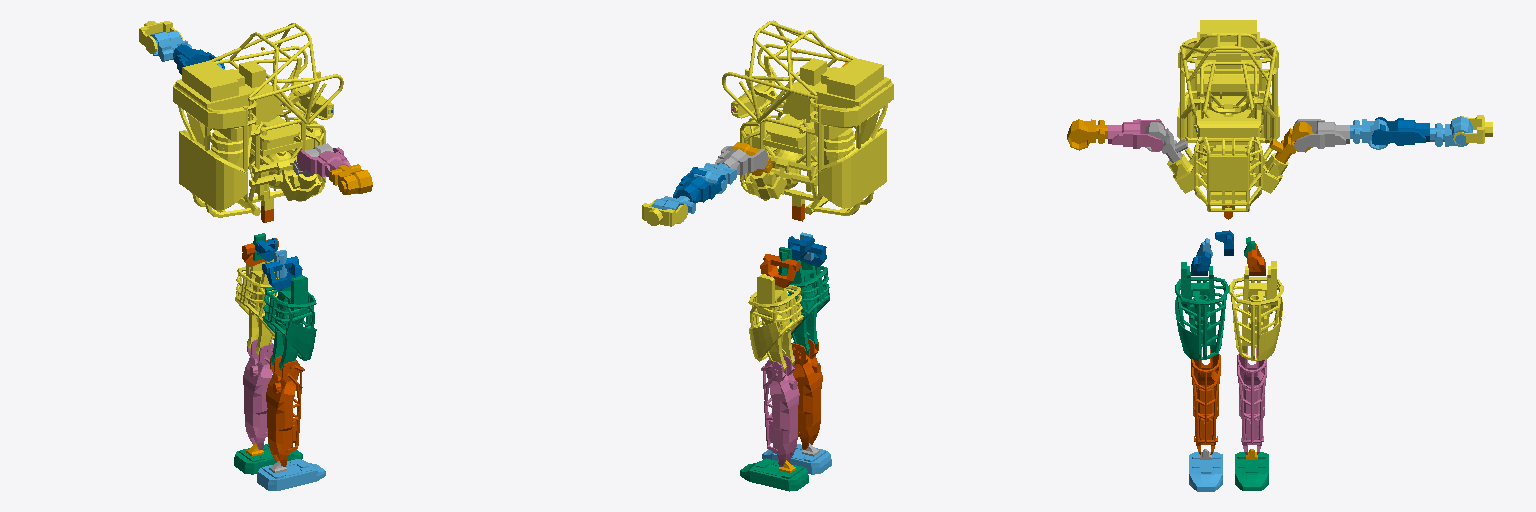
--- Facts derived from the render (not from the file) ---
The picture shows the robot from 3 angles, left to right: view 1: azimuth 30°, elevation 25°; view 2: azimuth 150°, elevation 25°; view 3: azimuth 270°, elevation 25°; orthographic projection.
Model drc_skeleton with 34 links and 33 joints (27 revolute, 6 fixed), rooted at pelvis, posed all joints at 0.
Visible links, largest first — view 1: utorso, r_uleg, r_lleg, l_lleg, l_uleg, r_foot, r_uarm, r_scap, l_foot, r_lglut, l_farm, l_larm (+1 smaller); view 2: utorso, l_uleg, l_lleg, r_lleg, r_uleg, l_foot, l_larm, l_scap, r_foot, l_lglut, l_hand, l_uarm; view 3: utorso, l_uleg, r_uleg, l_lleg, r_lleg, l_larm, l_scap, r_scap, r_foot, l_foot, r_uarm, l_farm (+4 smaller).
Link boxes in pixels (x1,y1,x2,y2): utorso: (173, 23, 343, 217); r_uleg: (262, 275, 316, 370); r_lleg: (266, 356, 304, 466); l_lleg: (243, 339, 273, 449); l_uleg: (235, 259, 278, 354); r_foot: (257, 459, 325, 490); r_uarm: (329, 164, 372, 194); r_scap: (297, 147, 350, 176); l_foot: (234, 444, 302, 474); r_lglut: (262, 256, 302, 290); l_farm: (150, 31, 191, 61); l_larm: (173, 44, 224, 74); utorso: (722, 20, 893, 215); l_uleg: (748, 266, 803, 371); l_lleg: (761, 355, 799, 466); r_lleg: (791, 339, 822, 449); r_uleg: (788, 258, 829, 353); l_foot: (740, 458, 808, 491); l_larm: (673, 167, 725, 203); l_scap: (714, 146, 768, 174); r_foot: (762, 444, 831, 474); l_lglut: (760, 254, 800, 287); l_hand: (642, 200, 687, 226); l_uarm: (694, 163, 736, 193); utorso: (1167, 20, 1288, 211); l_uleg: (1229, 261, 1283, 360); r_uleg: (1175, 262, 1228, 360); l_lleg: (1237, 348, 1266, 454); r_lleg: (1191, 349, 1220, 454); l_larm: (1372, 117, 1429, 145); l_scap: (1293, 119, 1349, 151); r_scap: (1108, 119, 1164, 151); r_foot: (1189, 452, 1222, 491); l_foot: (1235, 452, 1268, 490); r_uarm: (1067, 119, 1107, 150); l_farm: (1430, 116, 1472, 146).
Size in the robot's own frame: 0.603 by 1.64 by 1.87 metres.
Meshes: 29 distinct files referenced, 25 mesh visuals loaded (25 Collada DAE); not drawn: 4 (reference not matched to a file when rendering).

The robot description file, URDF, robot "drc_skeleton":
<robot name="drc_skeleton">
    <link name="l_clav">
        <inertial>
            <mass value="3.45" />
            <origin xyz="0 0.048 0.084" rpy="0 -0 0" />
            <inertia ixx="0.011" ixy="0" ixz="0" iyy="0.009" iyz="-0.004" izz="0.004" />
        </inertial>
        <visual>
            <origin xyz="0 0 0" rpy="0 -0 0" />
            <geometry>
                <mesh filename="l_clav.dae" scale="1 1 1" />
            </geometry>
        </visual>
        <collision>
            <origin xyz="0 0 0" rpy="0 -0 0" />
            <geometry>
                <mesh filename="l_clav.stl" scale="1 1 1" />
            </geometry>
        </collision>
    </link>
    <link name="l_farm">
        <inertial>
            <mass value="3.388" />
            <origin xyz="0 -0.065 0" rpy="0 -0 0" />
            <inertia ixx="0.00656" ixy="0" ixz="0" iyy="0.00358" iyz="0" izz="0.00656" />
        </inertial>
        <visual>
            <origin xyz="0 0 0" rpy="0 -0 0" />
            <geometry>
                <mesh filename="l_farm.dae" scale="1 1 1" />
            </geometry>
        </visual>
        <collision>
            <origin xyz="0 0 0" rpy="0 -0 0" />
            <geometry>
                <mesh filename="l_farm.stl" scale="1 1 1" />
            </geometry>
        </collision>
    </link>
    <link name="l_foot">
        <inertial>
            <mass value="2.05" />
            <origin xyz="0.027 0 -0.067" rpy="0 -0 0" />
            <inertia ixx="0.002" ixy="0" ixz="0" iyy="0.007" iyz="0" izz="0.008" />
        </inertial>
        <visual>
            <origin xyz="0 0 0" rpy="0 -0 0" />
            <geometry>
                <mesh filename="l_foot.dae" scale="1 1 1" />
            </geometry>
        </visual>
        <collision>
            <origin xyz="0 0 0" rpy="0 -0 0" />
            <geometry>
                <mesh filename="l_foot.stl" scale="1 1 1" />
            </geometry>
        </collision>
    </link>
    <link name="l_hand">
        <inertial>
            <mass value="2.509" />
            <origin xyz="0 0 0" rpy="0 -0 0" />
            <inertia ixx="0.00265" ixy="0" ixz="0" iyy="0.00446" iyz="0" izz="0.00446" />
        </inertial>
        <visual>
            <origin xyz="0 0 0" rpy="0 -0 0" />
            <geometry>
                <mesh filename="l_hand.dae" scale="1 1 1" />
            </geometry>
        </visual>
        <collision>
            <origin xyz="0 0 0" rpy="0 -0 0" />
            <geometry>
                <mesh filename="l_hand.stl" scale="1 1 1" />
            </geometry>
        </collision>
    </link>
    <link name="l_larm">
        <inertial>
            <mass value="2.509" />
            <origin xyz="0 0 0" rpy="0 -0 0" />
            <inertia ixx="0.00265" ixy="0" ixz="0" iyy="0.00446" iyz="0" izz="0.00446" />
        </inertial>
        <visual>
            <origin xyz="0 0 0" rpy="0 -0 0" />
            <geometry>
                <mesh filename="l_larm.dae" scale="1 1 1" />
            </geometry>
        </visual>
        <collision>
            <origin xyz="0 0 0" rpy="0 -0 0" />
            <geometry>
                <mesh filename="l_larm.stl" scale="1 1 1" />
            </geometry>
        </collision>
    </link>
    <link name="l_lglut">
        <inertial>
            <mass value="0.866" />
            <origin xyz="0.0133341 0.0170484 -0.0312052" rpy="0 -0 0" />
            <inertia ixx="0.000691326" ixy="-2.24344e-05" ixz="2.50508e-06" iyy="0.00126856" iyz="0.000137862" izz="0.00106487" />
        </inertial>
        <visual>
            <origin xyz="0 0 0" rpy="0 -0 0" />
            <geometry>
                <mesh filename="l_lglut.dae" scale="1 1 1" />
            </geometry>
        </visual>
        <collision>
            <origin xyz="0 0 0" rpy="0 -0 0" />
            <geometry>
                <mesh filename="l_lglut.stl" scale="1 1 1" />
            </geometry>
        </collision>
    </link>
    <link name="l_lleg">
        <inertial>
            <mass value="5.479" />
            <origin xyz="0.001 0 -0.187" rpy="0 -0 0" />
            <inertia ixx="0.077" ixy="0" ixz="-0.003" iyy="0.076" iyz="0" izz="0.01" />
        </inertial>
        <visual>
            <origin xyz="0 0 0" rpy="0 -0 0" />
            <geometry>
                <mesh filename="l_lleg.dae" scale="1 1 1" />
            </geometry>
        </visual>
        <collision>
            <origin xyz="0 0 0" rpy="0 -0 0" />
            <geometry>
                <mesh filename="l_lleg.stl" scale="1 1 1" />
            </geometry>
        </collision>
    </link>
    <link name="l_scap">
        <inertial>
            <mass value="3.012" />
            <origin xyz="0 0 0" rpy="0 -0 0" />
            <inertia ixx="0.00319" ixy="0" ixz="0" iyy="0.00583" iyz="0" izz="0.00583" />
        </inertial>
        <visual>
            <origin xyz="0 0 0" rpy="0 -0 0" />
            <geometry>
                <mesh filename="l_scap.dae" scale="1 1 1" />
            </geometry>
        </visual>
        <collision>
            <origin xyz="0 0 0" rpy="0 -0 0" />
            <geometry>
                <mesh filename="l_scap.stl" scale="1 1 1" />
            </geometry>
        </collision>
    </link>
    <link name="l_talus">
        <inertial>
            <mass value="0.125" />
            <origin xyz="0 0 0" rpy="0 -0 0" />
            <inertia ixx="1.01674e-05" ixy="0" ixz="0" iyy="8.42775e-06" iyz="0" izz="1.30101e-05" />
        </inertial>
        <visual>
            <origin xyz="0 0 0" rpy="0 -0 0" />
            <geometry>
                <mesh filename="l_talus.dae" scale="1 1 1" />
            </geometry>
        </visual>
        <collision>
            <origin xyz="0 0 0" rpy="0 -0 0" />
            <geometry>
                <mesh filename="l_talus.stl" scale="1 1 1" />
            </geometry>
        </collision>
    </link>
    <link name="l_uarm">
        <inertial>
            <mass value="3.388" />
            <origin xyz="0 -0.065 0" rpy="0 -0 0" />
            <inertia ixx="0.00656" ixy="0" ixz="0" iyy="0.00358" iyz="0" izz="0.00656" />
        </inertial>
        <visual>
            <origin xyz="0 0 0" rpy="0 -0 0" />
            <geometry>
                <mesh filename="l_uarm.dae" scale="1 1 1" />
            </geometry>
        </visual>
        <collision>
            <origin xyz="0 0 0" rpy="0 -0 0" />
            <geometry>
                <mesh filename="l_uarm.stl" scale="1 1 1" />
            </geometry>
        </collision>
    </link>
    <link name="l_uglut">
        <inertial>
            <mass value="0.648" />
            <origin xyz="0.00529262 -0.00344732 0.00313046" rpy="0 -0 0" />
            <inertia ixx="0.00074276" ixy="-3.79607e-08" ixz="-2.79549e-05" iyy="0.000688179" iyz="-3.2735e-08" izz="0.00041242" />
        </inertial>
        <visual>
            <origin xyz="0 0 0" rpy="0 -0 0" />
            <geometry>
                <mesh filename="l_uglut.dae" scale="1 1 1" />
            </geometry>
        </visual>
        <collision>
            <origin xyz="0 0 0" rpy="0 -0 0" />
            <geometry>
                <mesh filename="l_uglut.stl" scale="1 1 1" />
            </geometry>
        </collision>
    </link>
    <link name="l_uleg">
        <inertial>
            <mass value="9.209" />
            <origin xyz="0 0 -0.21" rpy="0 -0 0" />
            <inertia ixx="0.09" ixy="0" ixz="0" iyy="0.09" iyz="0" izz="0.02" />
        </inertial>
        <visual>
            <origin xyz="0 0 0" rpy="0 -0 0" />
            <geometry>
                <mesh filename="l_uleg.dae" scale="1 1 1" />
            </geometry>
        </visual>
        <collision>
            <origin xyz="0 0 0" rpy="0 -0 0" />
            <geometry>
                <mesh filename="l_uleg.stl" scale="1 1 1" />
            </geometry>
        </collision>
    </link>
    <link name="ltorso">
        <inertial>
            <mass value="2.409" />
            <origin xyz="-0.0112984 -3.15366e-06 0.0746835" rpy="0 -0 0" />
            <inertia ixx="0.0039092" ixy="-5.04491e-08" ixz="-0.000342157" iyy="0.00341694" iyz="4.87119e-07" izz="0.00174492" />
        </inertial>
        <visual>
            <origin xyz="0 0 0" rpy="0 -0 0" />
            <geometry>
                <mesh filename="ltorso.dae" scale="1 1 1" />
            </geometry>
        </visual>
        <collision>
            <origin xyz="0 0 0" rpy="0 -0 0" />
            <geometry>
                <mesh filename="ltorso.stl" scale="1 1 1" />
            </geometry>
        </collision>
    </link>
    <link name="mtorso">
        <inertial>
            <mass value="0.69" />
            <origin xyz="-0.00816266 -0.0131245 0.0305974" rpy="0 -0 0" />
            <inertia ixx="0.000454181" ixy="-6.10764e-05" ixz="3.94009e-05" iyy="0.000483282" iyz="5.27463e-05" izz="0.000444215" />
        </inertial>
        <visual>
            <origin xyz="0 0 0" rpy="0 -0 0" />
            <geometry>
                <mesh filename="mtorso.dae" scale="1 1 1" />
            </geometry>
        </visual>
        <collision>
            <origin xyz="0 0 0" rpy="0 -0 0" />
            <geometry>
                <mesh filename="mtorso.stl" scale="1 1 1" />
            </geometry>
        </collision>
    </link>
    <link name="pelvis">
        <inertial>
            <mass value="17.882" />
            <origin xyz="0.0111 0 0.0271" rpy="0 -0 0" />
            <inertia ixx="0.1244" ixy="0.0008" ixz="-0.0007" iyy="0.0958" iyz="-0.0005" izz="0.1167" />
        </inertial>
        <visual>
            <origin xyz="0 0 0" rpy="0 -0 0" />
            <geometry>
                <mesh filename="pelvis.dae" scale="1 1 1" />
            </geometry>
        </visual>
        <collision>
            <origin xyz="0 0 0" rpy="0 -0 0" />
            <geometry>
                <mesh filename="pelvis.stl" scale="1 1 1" />
            </geometry>
        </collision>
    </link>
    <link name="r_clav">
        <inertial>
            <mass value="3.45" />
            <origin xyz="0 -0.048 0.084" rpy="0 -0 0" />
            <inertia ixx="0.011" ixy="0" ixz="0" iyy="0.009" iyz="0.004" izz="0.004" />
        </inertial>
        <visual>
            <origin xyz="0 0 0" rpy="0 -0 0" />
            <geometry>
                <mesh filename="r_clav.dae" scale="1 1 1" />
            </geometry>
        </visual>
        <collision>
            <origin xyz="0 0 0" rpy="0 -0 0" />
            <geometry>
                <mesh filename="r_clav.stl" scale="1 1 1" />
            </geometry>
        </collision>
    </link>
    <link name="r_farm">
        <inertial>
            <mass value="3.388" />
            <origin xyz="0 0.065 0" rpy="0 -0 0" />
            <inertia ixx="0.00656" ixy="0" ixz="0" iyy="0.00358" iyz="0" izz="0.00656" />
        </inertial>
        <visual>
            <origin xyz="0 0 0" rpy="0 -0 0" />
            <geometry>
                <mesh filename="r_farm.dae" scale="1 1 1" />
            </geometry>
        </visual>
        <collision>
            <origin xyz="0 0 0" rpy="0 -0 0" />
            <geometry>
                <mesh filename="r_farm.stl" scale="1 1 1" />
            </geometry>
        </collision>
    </link>
    <link name="r_foot">
        <inertial>
            <mass value="2.05" />
            <origin xyz="0.027 0 -0.067" rpy="0 -0 0" />
            <inertia ixx="0.002" ixy="0" ixz="0" iyy="0.007" iyz="0" izz="0.008" />
        </inertial>
        <visual>
            <origin xyz="0 0 0" rpy="0 -0 0" />
            <geometry>
                <mesh filename="r_foot.dae" scale="1 1 1" />
            </geometry>
        </visual>
        <collision>
            <origin xyz="0 0 0" rpy="0 -0 0" />
            <geometry>
                <mesh filename="r_foot.stl" scale="1 1 1" />
            </geometry>
        </collision>
    </link>
    <link name="r_hand">
        <inertial>
            <mass value="2.509" />
            <origin xyz="0 0 0" rpy="0 -0 0" />
            <inertia ixx="0.00265" ixy="0" ixz="0" iyy="0.00446" iyz="0" izz="0.00446" />
        </inertial>
        <visual>
            <origin xyz="0 0 0" rpy="0 -0 0" />
            <geometry>
                <mesh filename="r_hand.dae" scale="1 1 1" />
            </geometry>
        </visual>
        <collision>
            <origin xyz="0 0 0" rpy="0 -0 0" />
            <geometry>
                <mesh filename="r_hand.stl" scale="1 1 1" />
            </geometry>
        </collision>
    </link>
    <link name="r_larm">
        <inertial>
            <mass value="2.509" />
            <origin xyz="0 0 0" rpy="0 -0 0" />
            <inertia ixx="0.00265" ixy="0" ixz="0" iyy="0.00446" iyz="0" izz="0.00446" />
        </inertial>
        <visual>
            <origin xyz="0 0 0" rpy="0 -0 0" />
            <geometry>
                <mesh filename="r_larm.dae" scale="1 1 1" />
            </geometry>
        </visual>
        <collision>
            <origin xyz="0 0 0" rpy="0 -0 0" />
            <geometry>
                <mesh filename="r_larm.stl" scale="1 1 1" />
            </geometry>
        </collision>
    </link>
    <link name="r_lglut">
        <inertial>
            <mass value="0.866" />
            <origin xyz="0.0133341 -0.0170484 -0.0312052" rpy="0 -0 0" />
            <inertia ixx="0.000691326" ixy="2.24344e-05" ixz="2.50508e-06" iyy="0.00126856" iyz="-0.000137862" izz="0.00106487" />
        </inertial>
        <visual>
            <origin xyz="0 0 0" rpy="0 -0 0" />
            <geometry>
                <mesh filename="r_lglut.dae" scale="1 1 1" />
            </geometry>
        </visual>
        <collision>
            <origin xyz="0 0 0" rpy="0 -0 0" />
            <geometry>
                <mesh filename="r_lglut.stl" scale="1 1 1" />
            </geometry>
        </collision>
    </link>
    <link name="r_lleg">
        <inertial>
            <mass value="5.479" />
            <origin xyz="0.001 0 -0.187" rpy="0 -0 0" />
            <inertia ixx="0.077" ixy="-0" ixz="-0.003" iyy="0.076" iyz="-0" izz="0.01" />
        </inertial>
        <visual>
            <origin xyz="0 0 0" rpy="0 -0 0" />
            <geometry>
                <mesh filename="r_lleg.dae" scale="1 1 1" />
            </geometry>
        </visual>
        <collision>
            <origin xyz="0 0 0" rpy="0 -0 0" />
            <geometry>
                <mesh filename="r_lleg.stl" scale="1 1 1" />
            </geometry>
        </collision>
    </link>
    <link name="r_scap">
        <inertial>
            <mass value="3.012" />
            <origin xyz="0 0 0" rpy="0 -0 0" />
            <inertia ixx="0.00319" ixy="0" ixz="0" iyy="0.00583" iyz="0" izz="0.00583" />
        </inertial>
        <visual>
            <origin xyz="0 0 0" rpy="0 -0 0" />
            <geometry>
                <mesh filename="r_scap.dae" scale="1 1 1" />
            </geometry>
        </visual>
        <collision>
            <origin xyz="0 0 0" rpy="0 -0 0" />
            <geometry>
                <mesh filename="r_scap.stl" scale="1 1 1" />
            </geometry>
        </collision>
    </link>
    <link name="r_talus">
        <inertial>
            <mass value="0.125" />
            <origin xyz="0 0 0" rpy="0 -0 0" />
            <inertia ixx="1.01674e-05" ixy="0" ixz="0" iyy="8.42775e-06" iyz="0" izz="1.30101e-05" />
        </inertial>
        <visual>
            <origin xyz="0 0 0" rpy="0 -0 0" />
            <geometry>
                <mesh filename="r_talus.dae" scale="1 1 1" />
            </geometry>
        </visual>
        <collision>
            <origin xyz="0 0 0" rpy="0 -0 0" />
            <geometry>
                <mesh filename="r_talus.stl" scale="1 1 1" />
            </geometry>
        </collision>
    </link>
    <link name="r_uarm">
        <inertial>
            <mass value="3.388" />
            <origin xyz="0 0.065 0" rpy="0 -0 0" />
            <inertia ixx="0.00656" ixy="0" ixz="0" iyy="0.00358" iyz="0" izz="0.00656" />
        </inertial>
        <visual>
            <origin xyz="0 0 0" rpy="0 -0 0" />
            <geometry>
                <mesh filename="r_uarm.dae" scale="1 1 1" />
            </geometry>
        </visual>
        <collision>
            <origin xyz="0 0 0" rpy="0 -0 0" />
            <geometry>
                <mesh filename="r_uarm.stl" scale="1 1 1" />
            </geometry>
        </collision>
    </link>
    <link name="r_uglut">
        <inertial>
            <mass value="0.648" />
            <origin xyz="0.00529262 0.00344732 0.00313046" rpy="0 -0 0" />
            <inertia ixx="0.00074276" ixy="3.79607e-08" ixz="-2.79549e-05" iyy="0.000688179" iyz="3.2735e-08" izz="0.00041242" />
        </inertial>
        <visual>
            <origin xyz="0 0 0" rpy="0 -0 0" />
            <geometry>
                <mesh filename="r_uglut.dae" scale="1 1 1" />
            </geometry>
        </visual>
        <collision>
            <origin xyz="0 0 0" rpy="0 -0 0" />
            <geometry>
                <mesh filename="r_uglut.stl" scale="1 1 1" />
            </geometry>
        </collision>
    </link>
    <link name="r_uleg">
        <inertial>
            <mass value="9.209" />
            <origin xyz="0 0 -0.21" rpy="0 -0 0" />
            <inertia ixx="0.09" ixy="0" ixz="0" iyy="0.09" iyz="0" izz="0.02" />
        </inertial>
        <visual>
            <origin xyz="0 0 0" rpy="0 -0 0" />
            <geometry>
                <mesh filename="r_uleg.dae" scale="1 1 1" />
            </geometry>
        </visual>
        <collision>
            <origin xyz="0 0 0" rpy="0 -0 0" />
            <geometry>
                <mesh filename="r_uleg.stl" scale="1 1 1" />
            </geometry>
        </collision>
    </link>
    <!-- with backpack -->
    <link name="utorso">
        <inertial>
            <mass value="52.007" />
            <origin xyz="-0.0923 0 0.3" rpy="0 -0 0" />
            <inertia ixx="1.466" ixy="0.00362" ixz="0.336" iyy="1.51" iyz="0.001" izz="1.3" />
        </inertial>
        <visual>
            <origin xyz="0 0 0" rpy="0 -0 0" />
            <geometry>
                <mesh filename="utorso.dae" scale="1 1 1" />
            </geometry>
        </visual>
        <collision>
            <origin xyz="0 0 0" rpy="0 -0 0" />
            <geometry>
                <mesh filename="utorso.stl" scale="1 1 1" />
            </geometry>
        </collision>
        <visual>
            <origin xyz="0 0 0" rpy="0 -0 0" />
            <geometry>
                <mesh filename="utorso_pack.dae" scale="1 1 1" />
            </geometry>
        </visual>
        <collision>
            <origin xyz="0 0 0" rpy="0 -0 0" />
            <geometry>
                <mesh filename="utorso_pack.stl" scale="1 1 1" />
            </geometry>
        </collision>
    </link>
    <!-- inertia without backpack
    <link name="utorso">
        <inertial>
            <mass value="22.260" />
            <origin xyz="0.0255 -0.001 0.2180" rpy="0 -0 0" />
            <inertia ixx="0.708" ixy="0.001" ixz="0.004" iyy="0.367" iyz="0.002" izz="0.530" />
        </inertial>
        <visual>
            <origin xyz="0 0 0" rpy="0 -0 0" />
            <geometry>
                <mesh filename="utorso.dae" scale="1 1 1" />
            </geometry>
        </visual>
        <collision>
            <origin xyz="0 0 0" rpy="0 -0 0" />
            <geometry>
                <mesh filename="utorso.stl" scale="1 1 1" />
            </geometry>
        </collision>
        <visual>
            <origin xyz="0 0 0" rpy="0 -0 0" />
            <geometry>
                <mesh filename="utorso_pack.dae" scale="1 1 1" />
            </geometry>
        </visual>
        <collision>
            <origin xyz="0 0 0" rpy="0 -0 0" />
            <geometry>
                <mesh filename="utorso_pack.stl" scale="1 1 1" />
            </geometry>
        </collision>
    </link>
    -->
    <joint name="back_bkx" type="revolute">
        <origin xyz="0 0 0.05" rpy="0 -0 0" />
        <axis xyz="1 0 0" />
        <parent link="mtorso" />
        <child link="utorso" />
        <dynamics damping="0.1" friction="0" />
        <limit effort="200" velocity="12" lower="-0.698132" upper="0.698132" />
        <safety_controller k_position="100" k_velocity="100" soft_lower_limit="-10.6981" soft_upper_limit="10.6981" />
    </joint>
    <joint name="back_bky" type="revolute">
        <origin xyz="0 0 0.16197" rpy="0 -0 0" />
        <axis xyz="0 1 0" />
        <parent link="ltorso" />
        <child link="mtorso" />
        <dynamics damping="0.1" friction="0" />
        <limit effort="206.843" velocity="12" lower="-0.610691" upper="0.438427" />
        <safety_controller k_position="100" k_velocity="100" soft_lower_limit="-10.6107" soft_upper_limit="10.4384" />
    </joint>
    <joint name="back_bkz" type="revolute">
        <origin xyz="-0.0125 0 0" rpy="0 -0 0" />
        <axis xyz="0 0 1" />
        <parent link="pelvis" />
        <child link="ltorso" />
        <dynamics damping="0.1" friction="0" />
        <limit effort="124.016" velocity="12" lower="-0.663225" upper="0.663225" />
        <safety_controller k_position="100" k_velocity="100" soft_lower_limit="-10.6632" soft_upper_limit="10.6632" />
    </joint>
    <joint name="l_arm_elx" type="revolute">
        <origin xyz="0 0.119 0.00921" rpy="0 -0 0" />
        <axis xyz="1 0 0" />
        <parent link="l_uarm" />
        <child link="l_larm" />
        <dynamics damping="0.1" friction="0" />
        <limit effort="114" velocity="12" lower="0" upper="2.35619" />
        <safety_controller k_position="100" k_velocity="100" soft_lower_limit="-10" soft_upper_limit="12.3562" />
    </joint>
    <joint name="l_arm_ely" type="revolute">
        <origin xyz="0 0.187 0.016" rpy="0 -0 0" />
        <axis xyz="0 1 0" />
        <parent link="l_scap" />
        <child link="l_uarm" />
        <dynamics damping="0.1" friction="0" />
        <limit effort="114" velocity="12" lower="0" upper="3.14159" />
        <safety_controller k_position="100" k_velocity="100" soft_lower_limit="-10" soft_upper_limit="13.1416" />
    </joint>
    <joint name="l_arm_shx" type="revolute">
        <origin xyz="0 0.14035 0.19609" rpy="0 -0 0" />
        <axis xyz="1 0 0" />
        <parent link="l_clav" />
        <child link="l_scap" />
        <dynamics damping="0.1" friction="0" />
        <limit effort="170" velocity="12" lower="-1.5708" upper="1.5708" />
        <safety_controller k_position="100" k_velocity="100" soft_lower_limit="-11.5708" soft_upper_limit="11.5708" />
    </joint>
    <joint name="l_arm_shy" type="revolute">
        <origin xyz="0.06441 0.13866 0.10718" rpy="0 -0 0" />
        <axis xyz="0 0.5 0.866025" />
        <parent link="utorso" />
        <child link="l_clav" />
        <dynamics damping="0.1" friction="0" />
        <limit effort="212" velocity="12" lower="-1.5708" upper="0.785398" />
        <safety_controller k_position="100" k_velocity="100" soft_lower_limit="-11.5708" soft_upper_limit="10.7854" />
    </joint>
    <joint name="l_arm_wrx" type="revolute">
        <origin xyz="0 0.119 0.00921" rpy="0 -0 0" />
        <axis xyz="1 0 0" />
        <parent link="l_farm" />
        <child link="l_hand" />
        <dynamics damping="0.1" friction="0" />
        <limit effort="60" velocity="12" lower="-1.1781" upper="1.1781" />
        <safety_controller k_position="100" k_velocity="100" soft_lower_limit="-11.1781" soft_upper_limit="11.1781" />
    </joint>
    <joint name="l_arm_wry" type="revolute">
        <origin xyz="0 0.187 -0.00921" rpy="0 -0 0" />
        <axis xyz="0 1 0" />
        <parent link="l_larm" />
        <child link="l_farm" />
        <dynamics damping="0.1" friction="0" />
        <limit effort="114" velocity="12" lower="0" upper="3.14159" />
        <safety_controller k_position="100" k_velocity="100" soft_lower_limit="-10" soft_upper_limit="13.1416" />
    </joint>
    <joint name="l_leg_akx" type="revolute">
        <origin xyz="0 0 0" rpy="0 -0 0" />
        <axis xyz="1 0 0" />
        <parent link="l_talus" />
        <child link="l_foot" />
        <dynamics damping="0.1" friction="0" />
        <limit effort="90" velocity="12" lower="-0.8" upper="0.8" />
        <safety_controller k_position="100" k_velocity="100" soft_lower_limit="-10.8" soft_upper_limit="10.8" />
    </joint>
    <joint name="l_leg_aky" type="revolute">
        <origin xyz="0 0 -0.422" rpy="0 -0 0" />
        <axis xyz="0 1 0" />
        <parent link="l_lleg" />
        <child link="l_talus" />
        <dynamics damping="0.1" friction="0" />
        <limit effort="700" velocity="12" lower="-1" upper="0.7" />
        <safety_controller k_position="100" k_velocity="100" soft_lower_limit="-11" soft_upper_limit="10.7" />
    </joint>
    <joint name="l_leg_hpx" type="revolute">
        <origin xyz="0 0 0" rpy="0 -0 0" />
        <axis xyz="1 0 0" />
        <parent link="l_uglut" />
        <child link="l_lglut" />
        <dynamics damping="0.1" friction="0" />
        <limit effort="180" velocity="12" lower="-0.523599" upper="0.523599" />
        <safety_controller k_position="100" k_velocity="100" soft_lower_limit="-10.5236" soft_upper_limit="10.5236" />
    </joint>
    <joint name="l_leg_hpy" type="revolute">
        <origin xyz="0.05 0 -0.05" rpy="0 -0 0" />
        <axis xyz="0 1 0" />
        <parent link="l_lglut" />
        <child link="l_uleg" />
        <dynamics damping="0.1" friction="0" />
        <limit effort="260" velocity="12" lower="-1.72072" upper="0.524821" />
        <safety_controller k_position="100" k_velocity="100" soft_lower_limit="-11.7207" soft_upper_limit="10.5248" />
    </joint>
    <joint name="l_leg_hpz" type="revolute">
        <origin xyz="0 0.089 0" rpy="0 -0 0" />
        <axis xyz="0 0 1" />
        <parent link="pelvis" />
        <child link="l_uglut" />
        <dynamics damping="0.1" friction="0" />
        <limit effort="110" velocity="12" lower="-0.174533" upper="1.22173" />
        <safety_controller k_position="100" k_velocity="100" soft_lower_limit="-10.1745" soft_upper_limit="11.2217" />
    </joint>
    <joint name="l_leg_kny" type="revolute">
        <origin xyz="-0.05 0 -0.374" rpy="0 -0 0" />
        <axis xyz="0 1 0" />
        <parent link="l_uleg" />
        <child link="l_lleg" />
        <dynamics damping="0.1" friction="0" />
        <limit effort="220" velocity="12" lower="0" upper="2.38569" />
        <safety_controller k_position="100" k_velocity="100" soft_lower_limit="-10" soft_upper_limit="12.3857" />
    </joint>
    <!--joint name="neck_ry" type="revolute">
        <origin xyz="0.21672 0 0.53796" rpy="0 -0 0" />
        <axis xyz="0 1 0" />
        <parent link="utorso" />
        <child link="head" />
        <dynamics damping="0.1" friction="0" />
        <limit effort="5" velocity="12" lower="-0.602139" upper="1.14494" />
        <safety_controller k_position="100" k_velocity="100" soft_lower_limit="-10.6021" soft_upper_limit="11.1449" />
    </joint-->
    <joint name="r_arm_elx" type="revolute">
        <origin xyz="0 -0.119 0.00921" rpy="0 -0 0" />
        <axis xyz="1 0 0" />
        <parent link="r_uarm" />
        <child link="r_larm" />
        <dynamics damping="0.1" friction="0" />
        <limit effort="114" velocity="12" lower="-2.35619" upper="0" />
        <safety_controller k_position="100" k_velocity="100" soft_lower_limit="-12.3562" soft_upper_limit="10" />
    </joint>
    <joint name="r_arm_ely" type="revolute">
        <origin xyz="0 -0.187 0.016" rpy="0 -0 0" />
        <axis xyz="0 1 0" />
        <parent link="r_scap" />
        <child link="r_uarm" />
        <dynamics damping="0.1" friction="0" />
        <limit effort="114" velocity="12" lower="0" upper="3.14159" />
        <safety_controller k_position="100" k_velocity="100" soft_lower_limit="-10" soft_upper_limit="13.1416" />
    </joint>
    <joint name="r_arm_shx" type="revolute">
        <origin xyz="0 -0.14035 0.19609" rpy="0 -0 0" />
        <axis xyz="1 0 0" />
        <parent link="r_clav" />
        <child link="r_scap" />
        <dynamics damping="0.1" friction="0" />
        <limit effort="170" velocity="12" lower="-1.5708" upper="1.5708" />
        <safety_controller k_position="100" k_velocity="100" soft_lower_limit="-11.5708" soft_upper_limit="11.5708" />
    </joint>
    <joint name="r_arm_shy" type="revolute">
        <origin xyz="0.06441 -0.13866 0.10718" rpy="0 -0 0" />
        <axis xyz="0 0.5 -0.866025" />
        <parent link="utorso" />
        <child link="r_clav" />
        <dynamics damping="0.1" friction="0" />
        <limit effort="212" velocity="12" lower="-1.5708" upper="0.785398" />
        <safety_controller k_position="100" k_velocity="100" soft_lower_limit="-11.5708" soft_upper_limit="10.7854" />
    </joint>
    <joint name="r_arm_wrx" type="revolute">
        <origin xyz="0 -0.119 0.00921" rpy="0 -0 0" />
        <axis xyz="1 0 0" />
        <parent link="r_farm" />
        <child link="r_hand" />
        <dynamics damping="0.1" friction="0" />
        <limit effort="60" velocity="12" lower="-1.1781" upper="1.1781" />
        <safety_controller k_position="100" k_velocity="100" soft_lower_limit="-11.1781" soft_upper_limit="11.1781" />
    </joint>
    <joint name="r_arm_wry" type="revolute">
        <origin xyz="0 -0.187 -0.00921" rpy="0 -0 0" />
        <axis xyz="0 1 0" />
        <parent link="r_larm" />
        <child link="r_farm" />
        <dynamics damping="0.1" friction="0" />
        <limit effort="114" velocity="12" lower="0" upper="3.14159" />
        <safety_controller k_position="100" k_velocity="100" soft_lower_limit="-10" soft_upper_limit="13.1416" />
    </joint>
    <joint name="r_leg_akx" type="revolute">
        <origin xyz="0 0 0" rpy="0 -0 0" />
        <axis xyz="1 0 0" />
        <parent link="r_talus" />
        <child link="r_foot" />
        <dynamics damping="0.1" friction="0" />
        <limit effort="90" velocity="12" lower="-0.8" upper="0.8" />
        <safety_controller k_position="100" k_velocity="100" soft_lower_limit="-10.8" soft_upper_limit="10.8" />
    </joint>
    <joint name="r_leg_aky" type="revolute">
        <origin xyz="0 0 -0.422" rpy="0 -0 0" />
        <axis xyz="0 1 0" />
        <parent link="r_lleg" />
        <child link="r_talus" />
        <dynamics damping="0.1" friction="0" />
        <limit effort="700" velocity="12" lower="-1" upper="0.7" />
        <safety_controller k_position="100" k_velocity="100" soft_lower_limit="-11" soft_upper_limit="10.7" />
    </joint>
    <joint name="r_leg_hpx" type="revolute">
        <origin xyz="0 0 0" rpy="0 -0 0" />
        <axis xyz="1 0 0" />
        <parent link="r_uglut" />
        <child link="r_lglut" />
        <dynamics damping="0.1" friction="0" />
        <limit effort="180" velocity="12" lower="-0.523599" upper="0.523599" />
        <safety_controller k_position="100" k_velocity="100" soft_lower_limit="-10.5236" soft_upper_limit="10.5236" />
    </joint>
    <joint name="r_leg_hpy" type="revolute">
        <origin xyz="0.05 0 -0.05" rpy="0 -0 0" />
        <axis xyz="0 1 0" />
        <parent link="r_lglut" />
        <child link="r_uleg" />
        <dynamics damping="0.1" friction="0" />
        <limit effort="260" velocity="12" lower="-1.72072" upper="0.524821" />
        <safety_controller k_position="100" k_velocity="100" soft_lower_limit="-11.7207" soft_upper_limit="10.5248" />
    </joint>
    <joint name="r_leg_hpz" type="revolute">
        <origin xyz="0 -0.089 0" rpy="0 -0 0" />
        <axis xyz="0 0 1" />
        <parent link="pelvis" />
        <child link="r_uglut" />
        <dynamics damping="0.1" friction="0" />
        <limit effort="110" velocity="12" lower="-1.22173" upper="0.174533" />
        <safety_controller k_position="100" k_velocity="100" soft_lower_limit="-11.2217" soft_upper_limit="10.1745" />
    </joint>
    <joint name="r_leg_kny" type="revolute">
        <origin xyz="-0.05 0 -0.374" rpy="0 -0 0" />
        <axis xyz="0 1 0" />
        <parent link="r_uleg" />
        <child link="r_lleg" />
        <dynamics damping="0.1" friction="0" />
        <limit effort="220" velocity="12" lower="0" upper="2.38569" />
        <safety_controller k_position="100" k_velocity="100" soft_lower_limit="-10" soft_upper_limit="12.3857" />
    </joint>

    <!-- new situational awareness cameras -->
    <link name="r_situational_awareness_camera_link">
      <inertial>
        <mass value="0.1"/>
        <origin xyz="0 0 0"/>
        <inertia ixx="0.00001" ixy="0" ixz="0" iyy="0.00001" iyz="0" izz="0.00001"/>
      </inertial>
      <visual>
        <origin rpy="0 0 0" xyz="0 0 0"/>
        <geometry>
          <box size="0.01 0.01 0.01"/>
        </geometry>
      </visual>
    </link>
    <joint name="r_situational_awareness_camera_joint" type="fixed">
      <parent link="utorso"/>
      <child link="r_situational_awareness_camera_link"/>
      <!-- if camera points x-forward, bottom towards front of robot, 15 degree yaw forwards from
           lateral (+y) view -->
      <origin xyz="0.216409 -0.121799 0.406759" rpy="1.57079633 0 -1.30899694"/>
    </joint>
    <joint name="r_situational_awareness_camera_optical_frame_joint" type="fixed">
      <origin xyz="0 0 0" rpy="-1.5708 0.0 -1.5708" />
      <parent link="r_situational_awareness_camera_link" />
      <child link="r_situational_awareness_camera_optical_frame"/>
    </joint>
    <link name="r_situational_awareness_camera_optical_frame"/>

    <link name="l_situational_awareness_camera_link">
      <inertial>
        <mass value="0.1"/>
        <origin xyz="0 0 0"/>
        <inertia ixx="0.00001" ixy="0" ixz="0" iyy="0.00001" iyz="0" izz="0.00001"/>
      </inertial>
      <visual>
        <origin rpy="0 0 0" xyz="0 0 0"/>
        <geometry>
          <box size="0.01 0.01 0.01"/>
        </geometry>
      </visual>
    </link>
    <joint name="l_situational_awareness_camera_joint" type="fixed">
      <parent link="utorso"/>
      <child link="l_situational_awareness_camera_link"/>
      <!-- if camera points x-forward, bottom towards front of robot, 15 degree yaw forwards from
           lateral (+y) view -->
      <origin xyz="0.216409 0.121799 0.406759" rpy="-1.57079633 0 1.30899694"/>
    </joint>
    <joint name="l_situational_awareness_camera_optical_frame_joint" type="fixed">
      <origin xyz="0 0 0" rpy="-1.5708 0.0 -1.5708" />
      <parent link="l_situational_awareness_camera_link" />
      <child link="l_situational_awareness_camera_optical_frame"/>
    </joint>
    <link name="l_situational_awareness_camera_optical_frame"/>

    <link name="rear_situational_awareness_camera_link">
      <inertial>
        <mass value="0.1"/>
        <origin xyz="0 0 0"/>
        <inertia ixx="0.00001" ixy="0" ixz="0" iyy="0.00001" iyz="0" izz="0.00001"/>
      </inertial>
      <visual>
        <origin rpy="0 0 0" xyz="0 0 0"/>
        <geometry>
          <box size="0.01 0.01 0.01"/>
        </geometry>
      </visual>
    </link>
    <joint name="rear_situational_awareness_camera_joint" type="fixed">
      <parent link="utorso"/>
      <child link="rear_situational_awareness_camera_link"/>
      <!-- if camera points towards -X direction of the utorso link frame -->
      <origin xyz="-0.0026 0.0264 0.6649" rpy="0 0 3.14159"/>
    </joint>
    <joint name="rear_situational_awareness_camera_optical_frame_joint" type="fixed">
      <origin xyz="0 0 0" rpy="-1.5708 0.0 -1.5708" />
      <parent link="rear_situational_awareness_camera_link" />
      <child link="rear_situational_awareness_camera_optical_frame"/>
    </joint>
    <link name="rear_situational_awareness_camera_optical_frame"/>

</robot>
